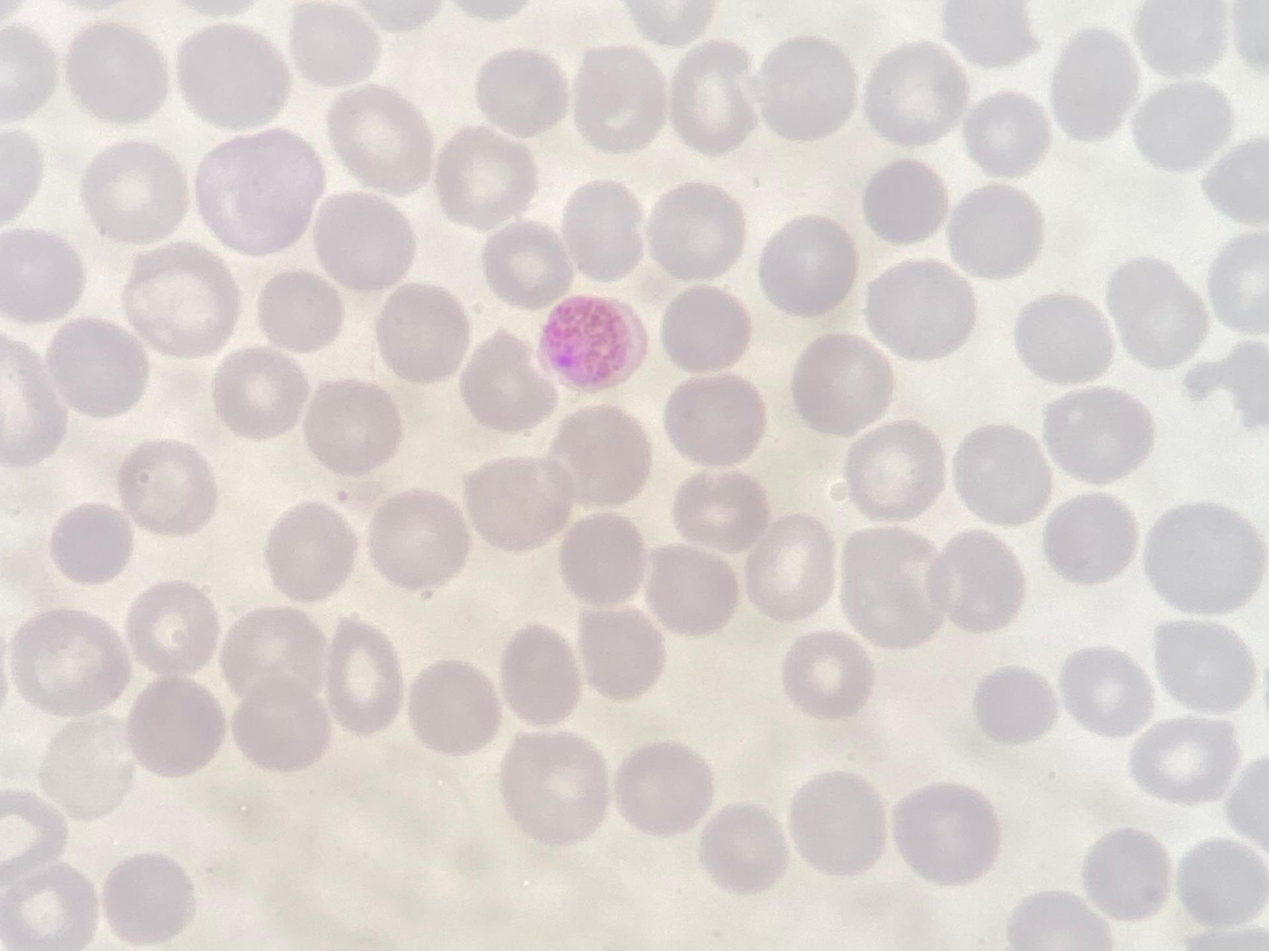Infected: (544, 293, 645, 387)
Uninfected: (196, 130, 324, 254), (1142, 502, 1262, 615), (838, 526, 946, 647), (11, 608, 128, 718), (122, 245, 236, 355), (499, 731, 609, 842), (176, 24, 288, 129), (890, 782, 999, 887), (327, 86, 436, 190), (1106, 256, 1208, 366), (44, 316, 151, 419), (1040, 385, 1151, 484), (64, 20, 169, 124), (787, 771, 890, 877), (866, 259, 975, 359), (929, 531, 1030, 638), (125, 677, 229, 780), (83, 141, 188, 243), (435, 124, 540, 226), (312, 192, 418, 293), (569, 45, 668, 153), (755, 36, 857, 140), (863, 42, 966, 144), (1150, 619, 1256, 718), (1049, 28, 1143, 139), (665, 371, 767, 473), (366, 490, 470, 590), (464, 456, 572, 552), (644, 182, 745, 283), (551, 404, 654, 503), (40, 714, 138, 818), (220, 604, 324, 701), (668, 44, 762, 151), (230, 675, 332, 773), (952, 422, 1051, 522), (124, 580, 223, 679), (375, 281, 473, 381), (792, 333, 892, 431), (613, 741, 713, 839), (459, 332, 557, 432), (264, 500, 360, 602), (842, 420, 942, 517), (116, 439, 217, 535), (1015, 291, 1117, 385), (945, 184, 1044, 280), (1129, 81, 1231, 174), (1130, 715, 1236, 804), (303, 379, 401, 475), (744, 519, 837, 620), (325, 623, 408, 734), (212, 347, 311, 440), (406, 659, 501, 755), (1043, 493, 1141, 586), (758, 221, 855, 314), (1080, 826, 1173, 922), (100, 853, 196, 946), (643, 545, 740, 637), (557, 512, 650, 607), (475, 48, 570, 141), (1059, 646, 1155, 738), (559, 179, 648, 278), (1173, 834, 1267, 927), (576, 605, 668, 700), (499, 626, 586, 726), (658, 283, 752, 373), (4, 863, 100, 949), (672, 467, 769, 552), (781, 632, 874, 720), (698, 802, 788, 892), (481, 221, 575, 307), (1, 227, 85, 323), (960, 89, 1050, 177), (862, 159, 953, 246), (288, 5, 380, 89), (46, 500, 134, 586), (256, 268, 343, 352), (973, 667, 1058, 748), (1134, 0, 1225, 75), (1207, 231, 1269, 330), (946, 1, 1040, 65), (1204, 135, 1266, 223)
